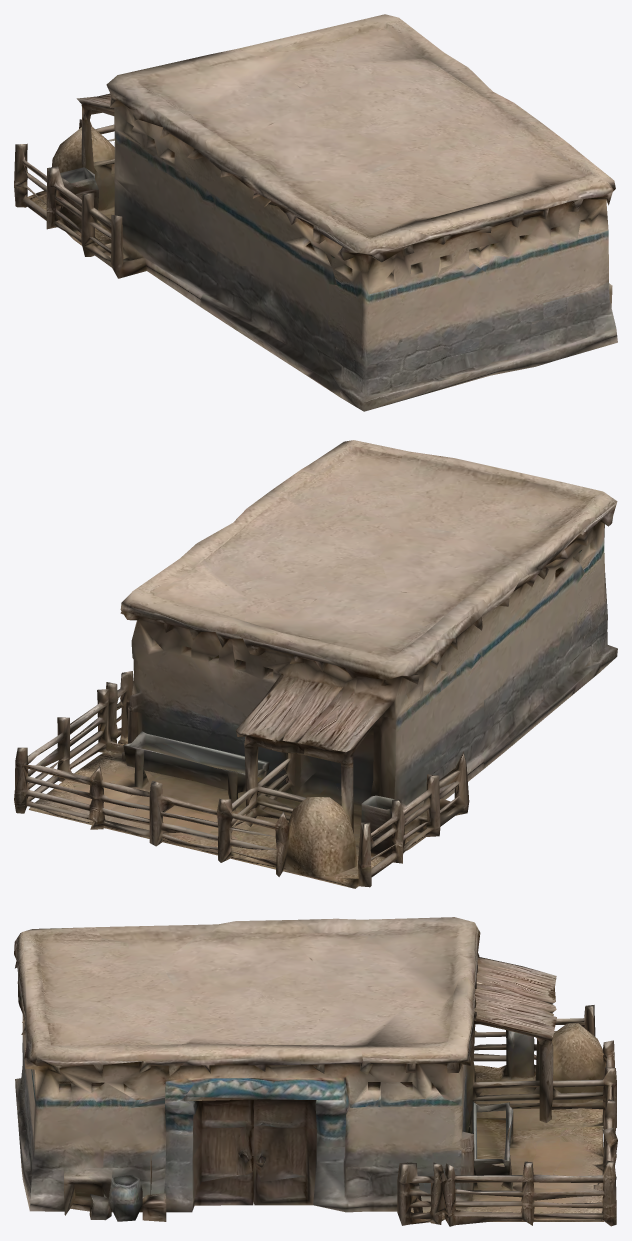
File: barn_0.glb
3 views of the same model, one above another, from view 1: azimuth 30°, elevation 25°; view 2: azimuth 150°, elevation 25°; view 3: azimuth 270°, elevation 25° (orthographic). The views are drawn at different scales.
Parts seen in each view (by area): view 1: tripo_node_6d404c97-5aeb-4495-84d5-09609b59f1cd; view 2: tripo_node_6d404c97-5aeb-4495-84d5-09609b59f1cd; view 3: tripo_node_6d404c97-5aeb-4495-84d5-09609b59f1cd.
Part boxes in pixels (x1,y1,x2,y2): tripo_node_6d404c97-5aeb-4495-84d5-09609b59f1cd: (14,14,617,411); tripo_node_6d404c97-5aeb-4495-84d5-09609b59f1cd: (14,440,617,888); tripo_node_6d404c97-5aeb-4495-84d5-09609b59f1cd: (14,917,617,1226).
Bounding box in the file's own units: 0.6307 × 0.2902 × 0.9781.
1 material, 1 textured.
